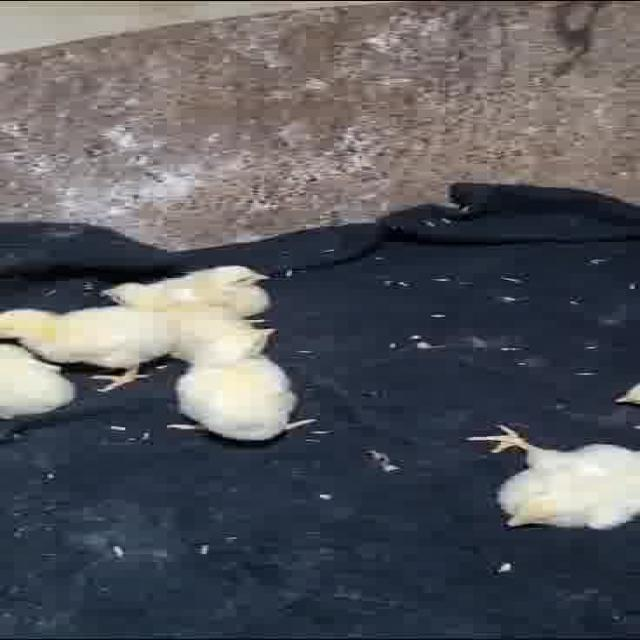poussin: (467, 420, 640, 534), (165, 322, 315, 438), (0, 306, 166, 407), (166, 264, 288, 325), (100, 282, 215, 328)
